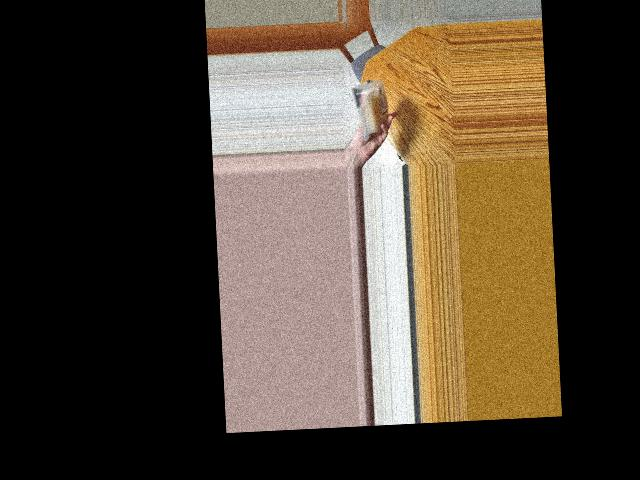cheese: (356, 83, 388, 131)
